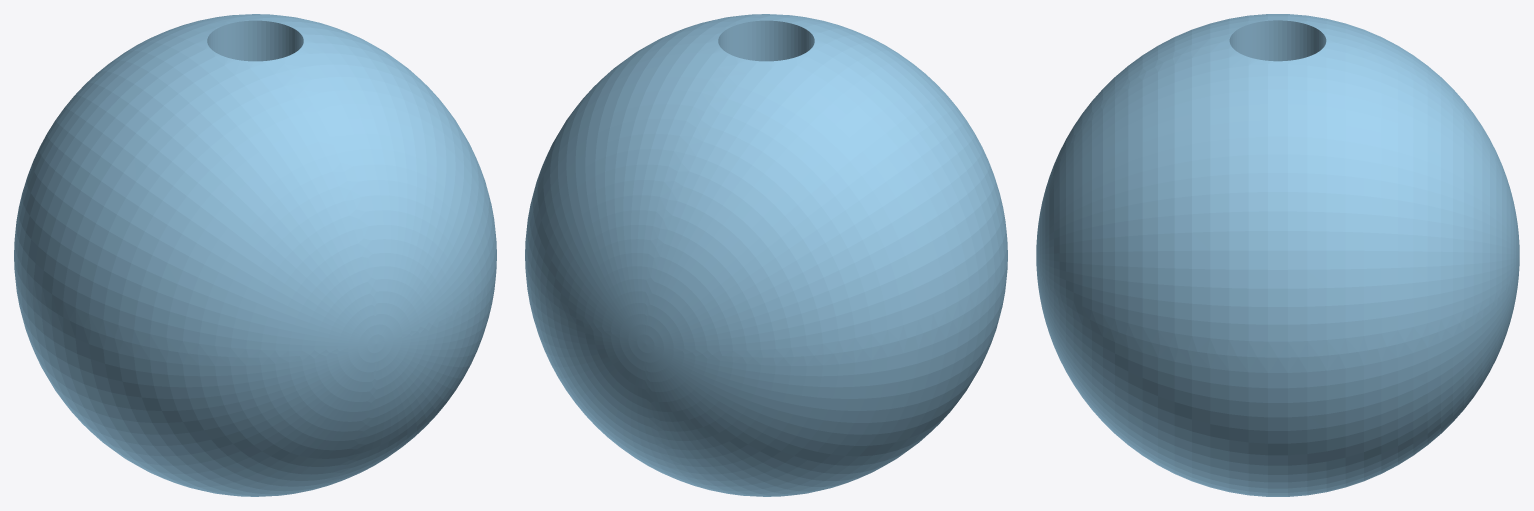
3 renders of one model, left to right at view 1: azimuth 30°, elevation 25°; view 2: azimuth 150°, elevation 25°; view 3: azimuth 270°, elevation 25°, orthographic.
Visible parts, largest first — view 1: 5abfd6ef0541ed0f1fc443a8; view 2: 5abfd6ef0541ed0f1fc443a8; view 3: 5abfd6ef0541ed0f1fc443a8.
Part boxes in pixels (left/top/right/bottom): 5abfd6ef0541ed0f1fc443a8: left=14, top=14, right=496, bottom=496; 5abfd6ef0541ed0f1fc443a8: left=525, top=14, right=1007, bottom=496; 5abfd6ef0541ed0f1fc443a8: left=1036, top=14, right=1519, bottom=496.
Size of the model in its own units: 0.05 by 0.05 by 0.049.
